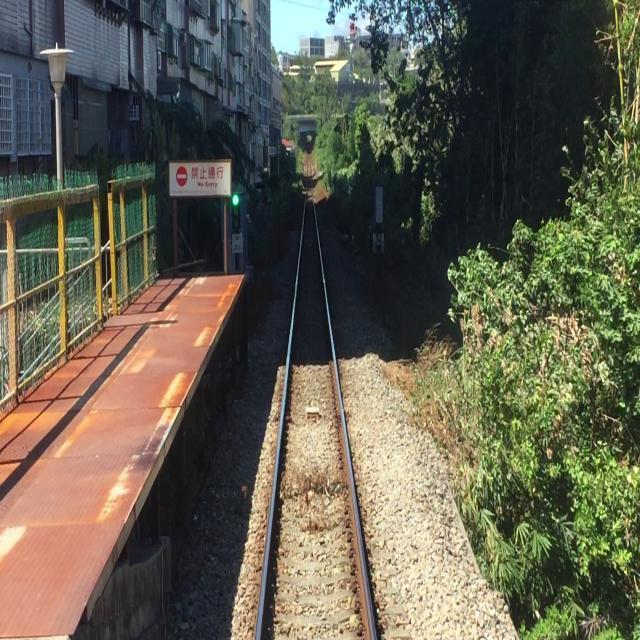rail: (210, 176, 410, 640)
